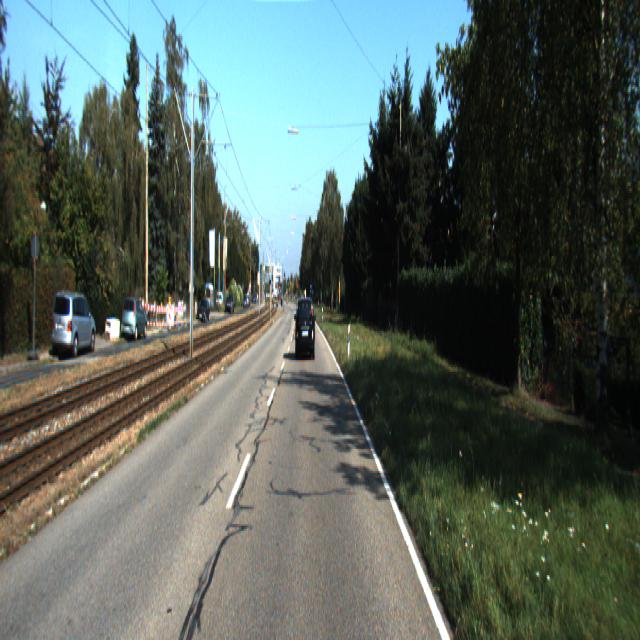Car: (52, 286, 96, 356), (121, 297, 149, 343), (296, 296, 315, 361)
